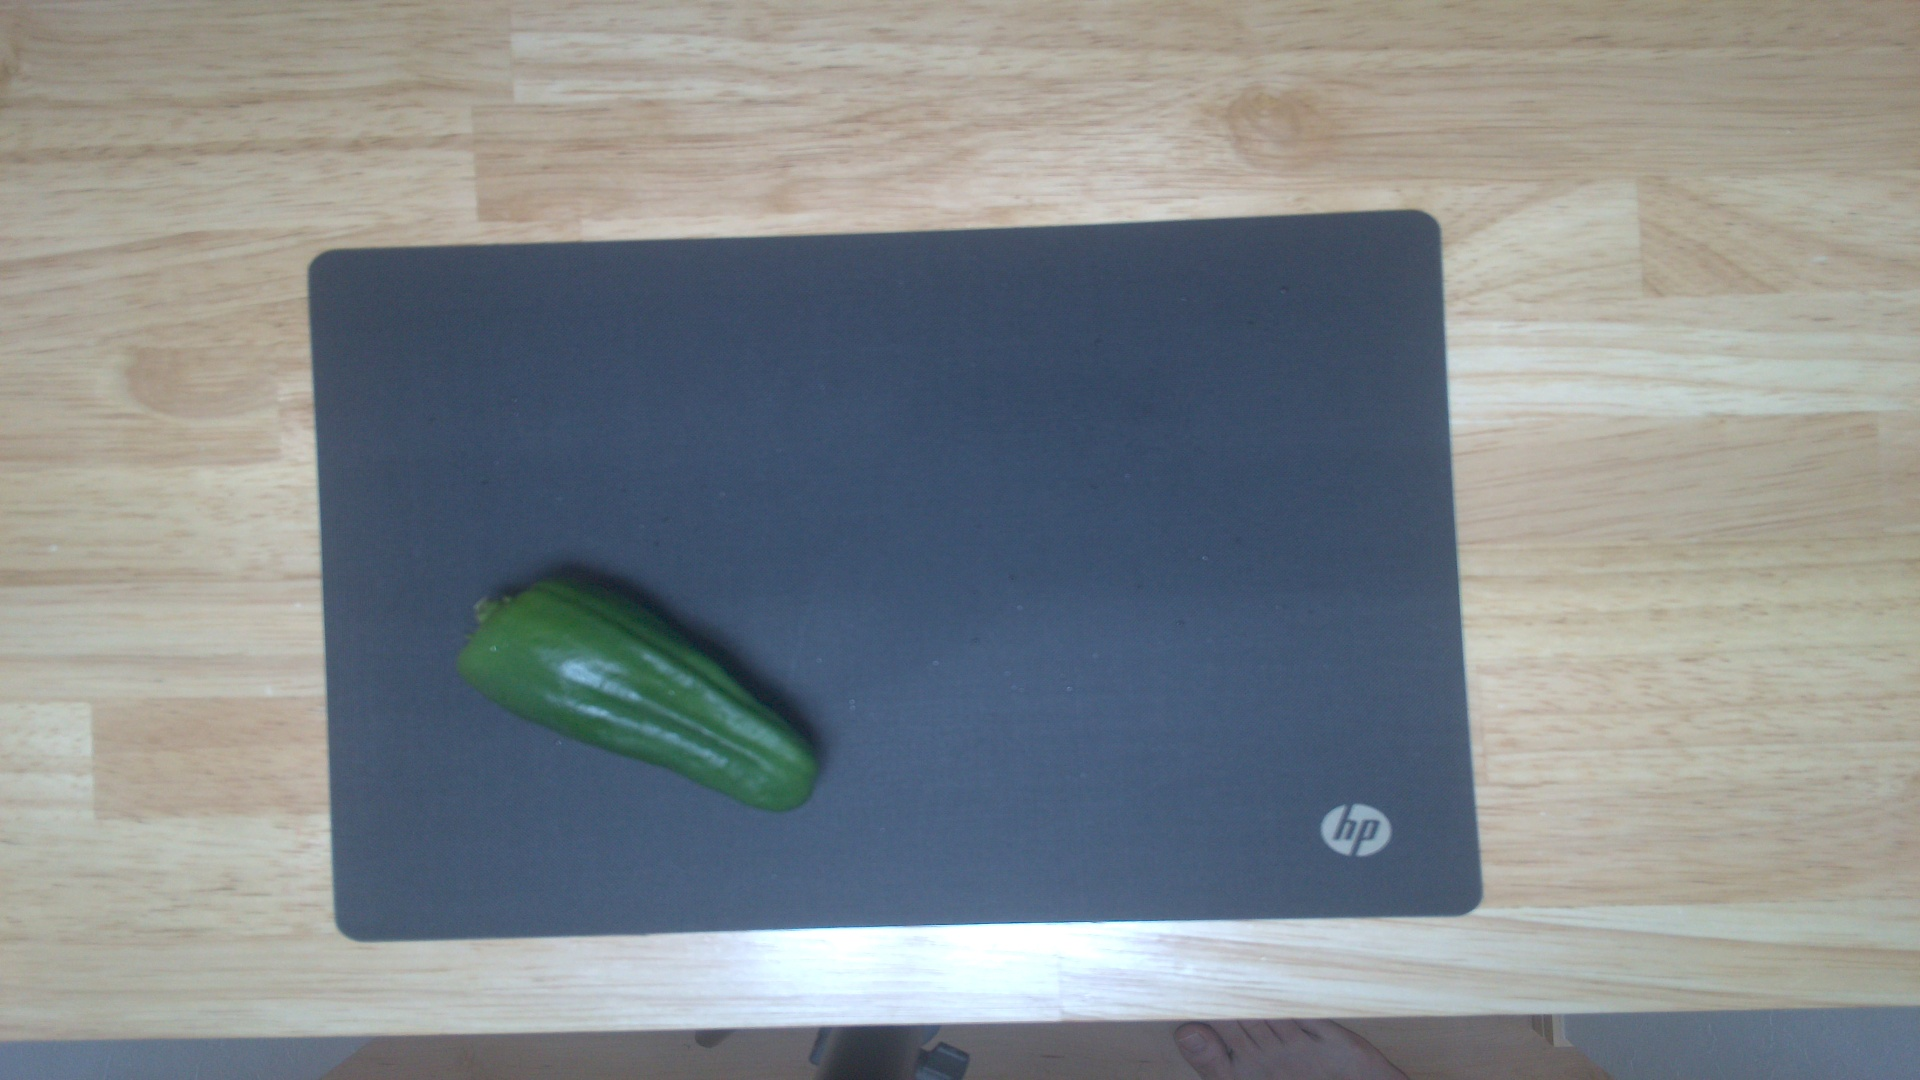Piman: (456, 574, 829, 819)
